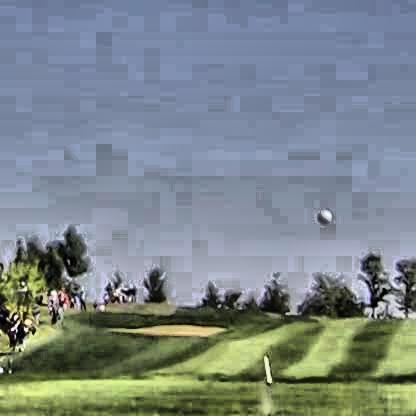golfball: (315, 206, 330, 223)
